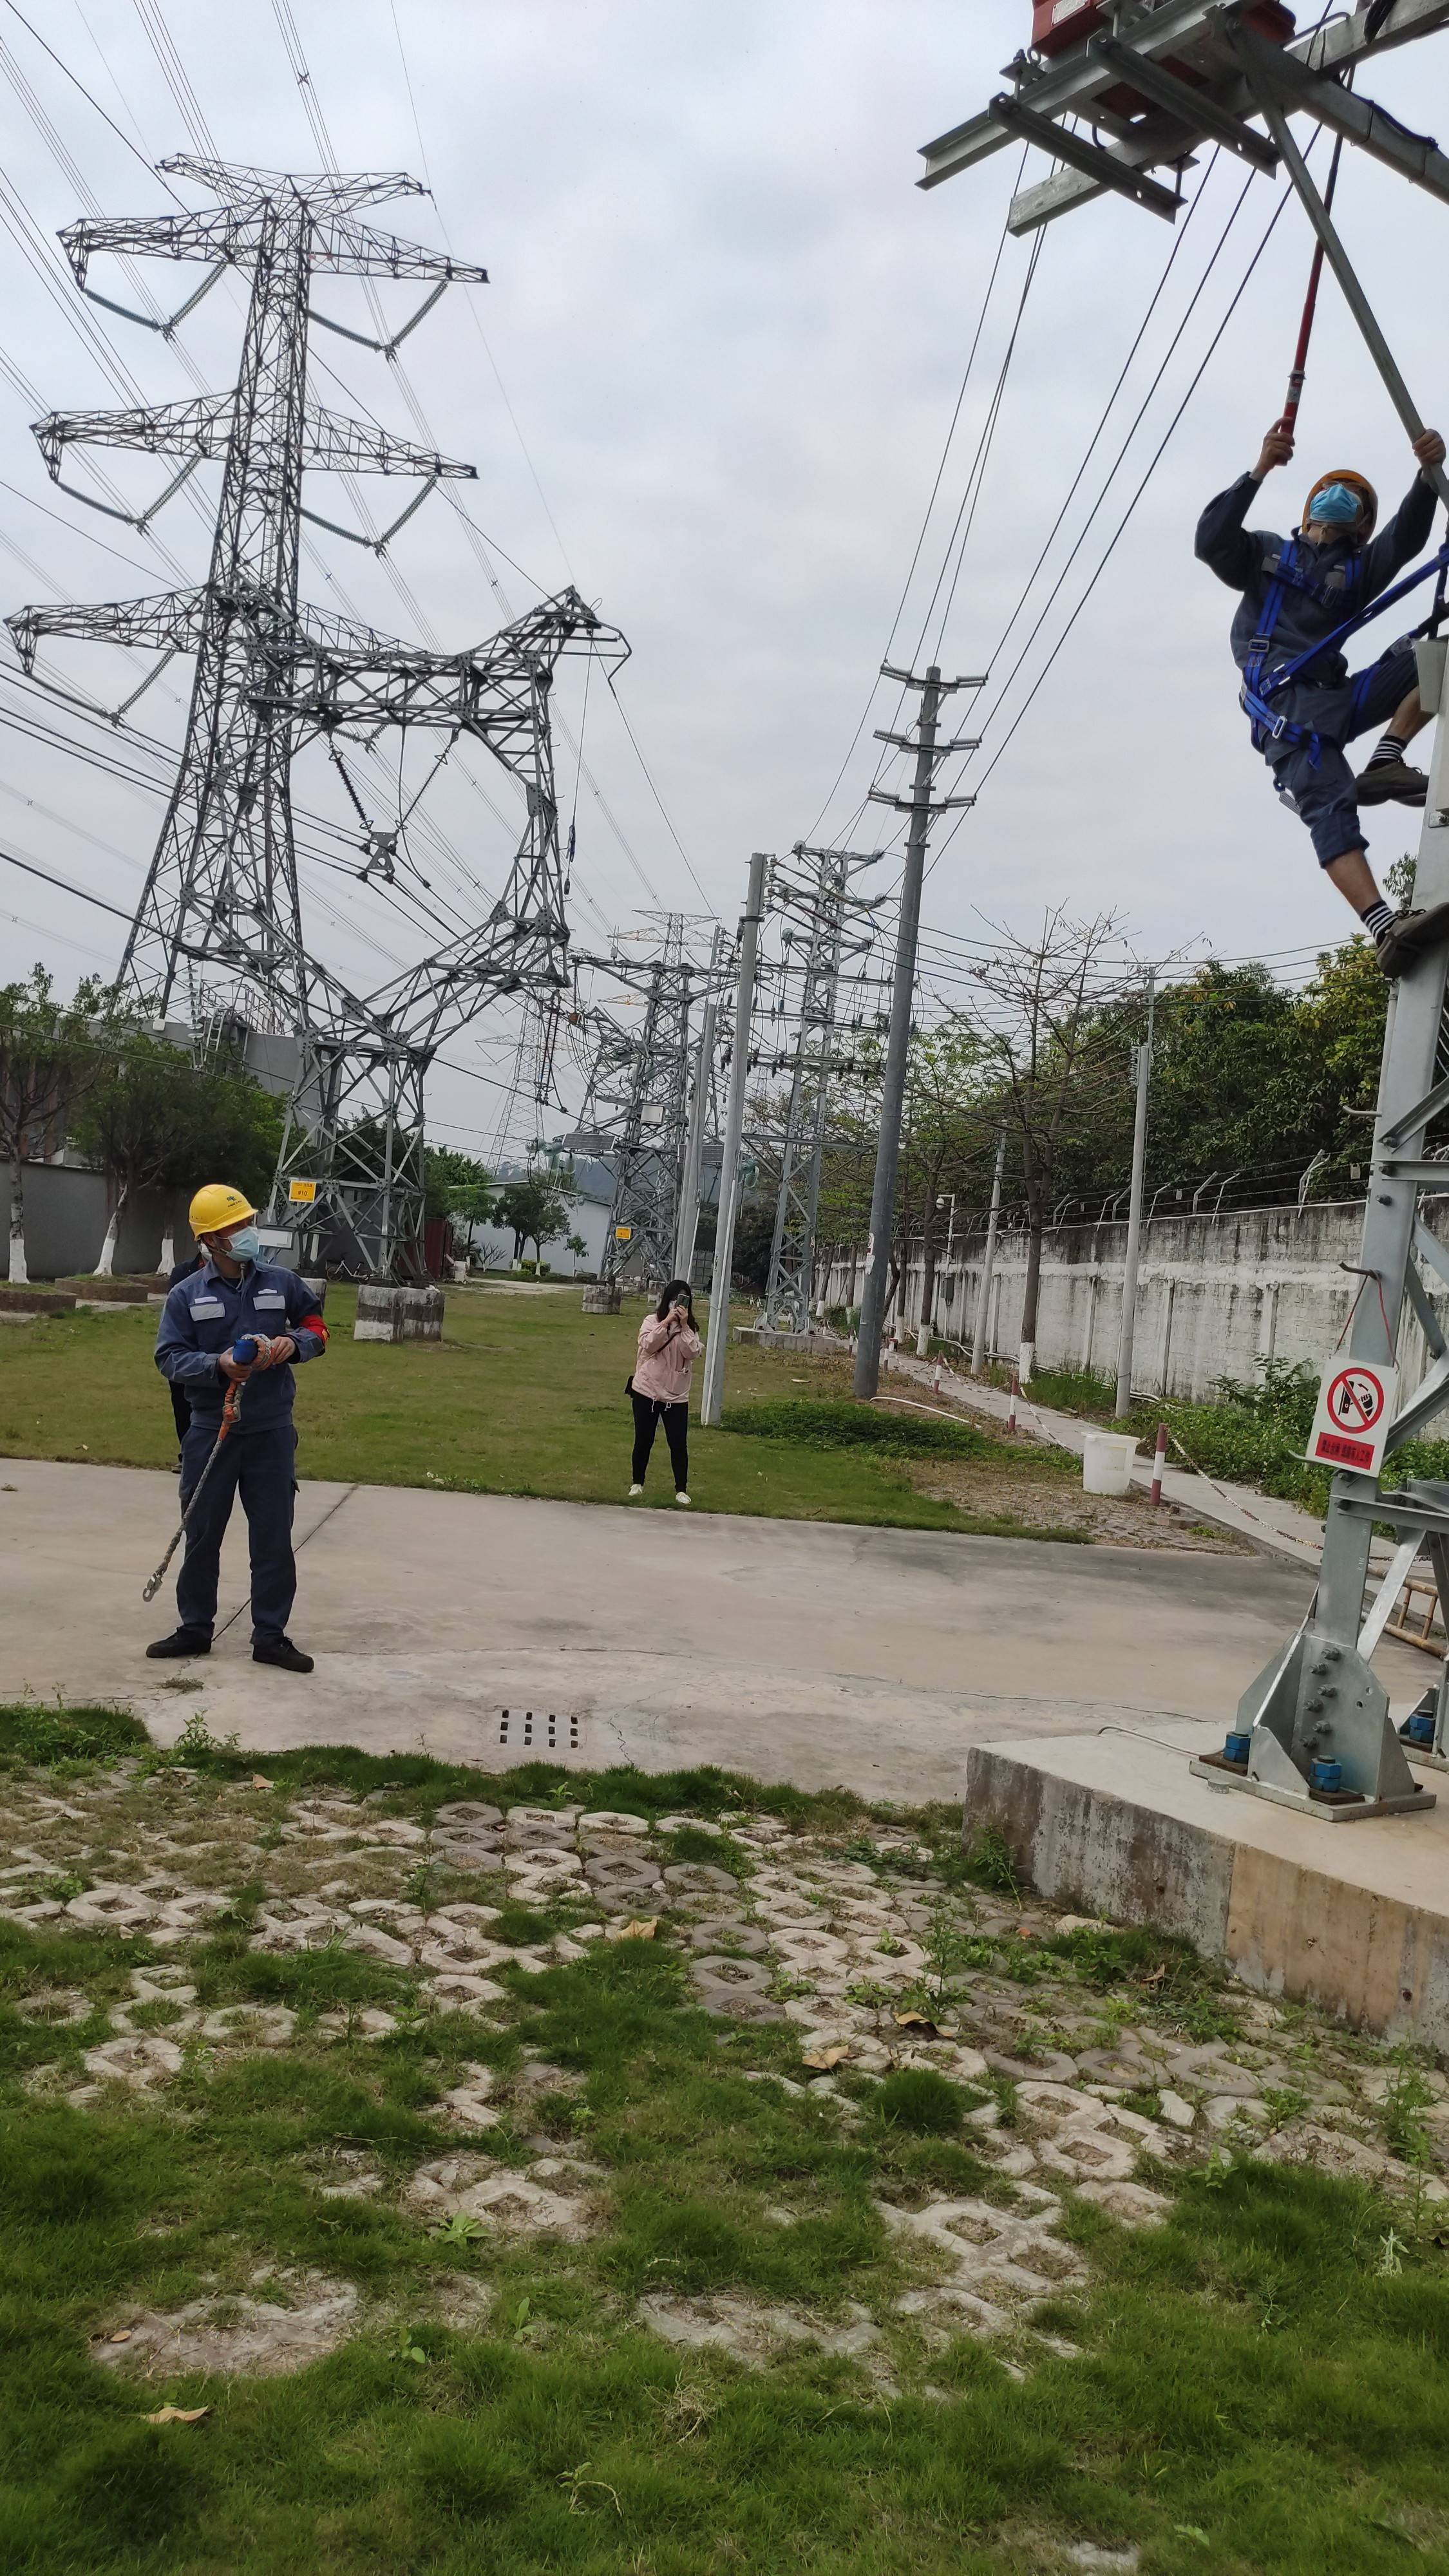downcloth: (632, 1396, 692, 1490)
downsuit: (173, 1442, 306, 1629), (1276, 681, 1389, 881)
upcloth: (633, 1315, 702, 1394)
upsuit: (1196, 474, 1362, 678), (147, 1265, 331, 1433)
wrongbottom: (1322, 832, 1391, 938), (1378, 683, 1435, 757)
